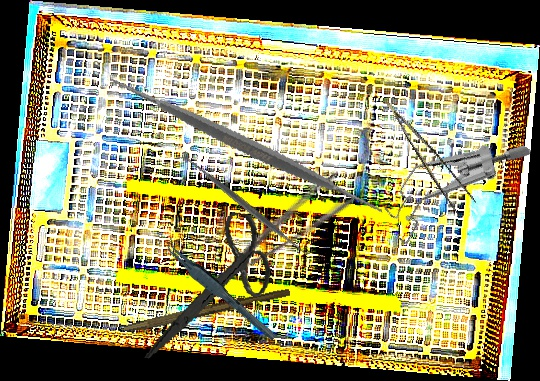Dressing Forceps: (186, 169, 358, 294)
Iris Scissors: (143, 201, 280, 377)
Scalpel Handle: (123, 284, 291, 338)
Spatula Surgical: (105, 5, 387, 284), (173, 145, 316, 265)
Speculum: (370, 99, 533, 279)
Tissue Forceps: (161, 227, 278, 353), (386, 90, 480, 222)
